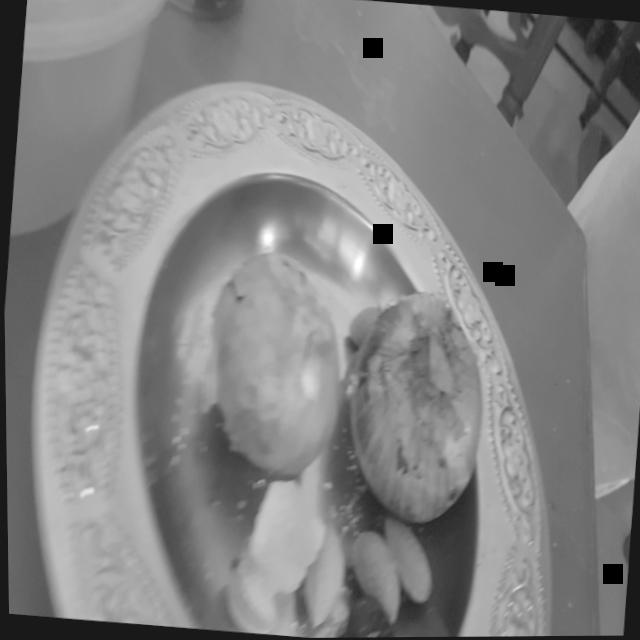onion: (169, 241, 366, 474), (331, 292, 493, 529)
